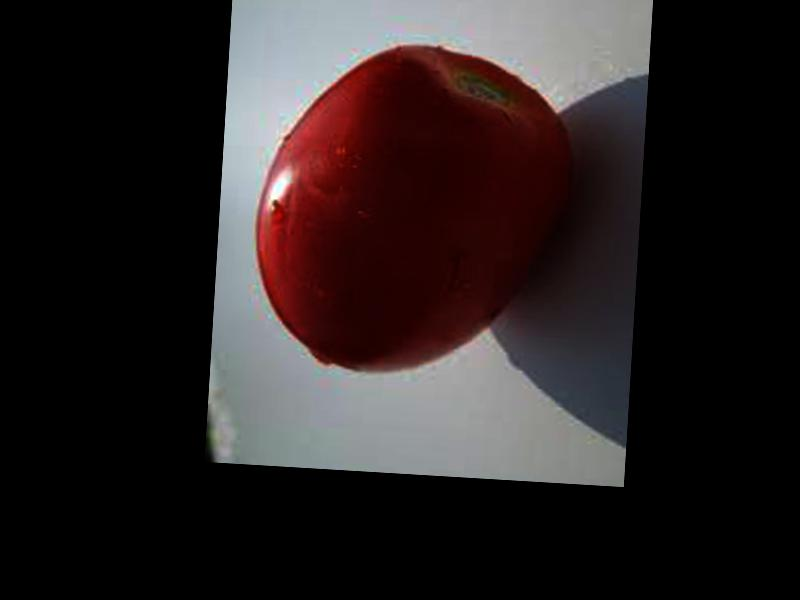Tomato: (247, 37, 576, 381)
